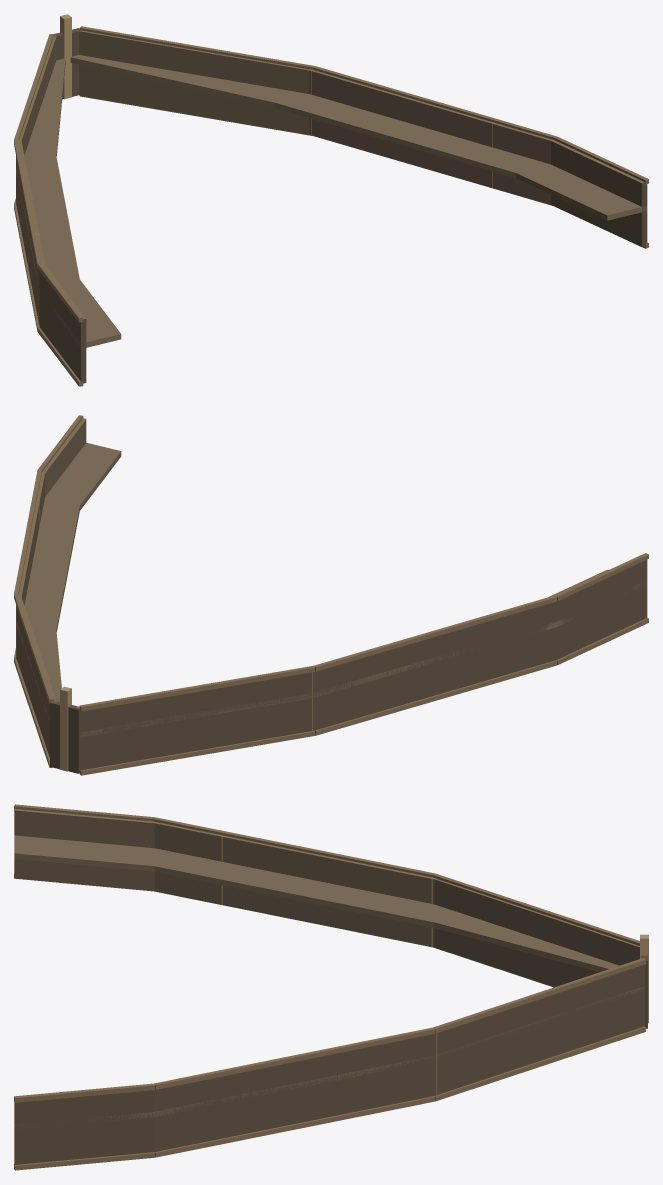
The model's file is S2_Forecastle_Sides.fbx.
3 views of the same model, one above another, from view 1: azimuth 30°, elevation 25°; view 2: azimuth 150°, elevation 25°; view 3: azimuth 270°, elevation 25° (orthographic). The views are drawn at different scales.
Parts seen in each view (by area): view 1: S2_Forecastle_Sides; view 2: S2_Forecastle_Sides; view 3: S2_Forecastle_Sides.
Part boxes in pixels (left/top/right/bottom): S2_Forecastle_Sides: left=14, top=14, right=648, bottom=386; S2_Forecastle_Sides: left=14, top=415, right=648, bottom=775; S2_Forecastle_Sides: left=14, top=804, right=648, bottom=1170.
Size of the model in its own units: 29.8 by 4.11 by 27.21.
